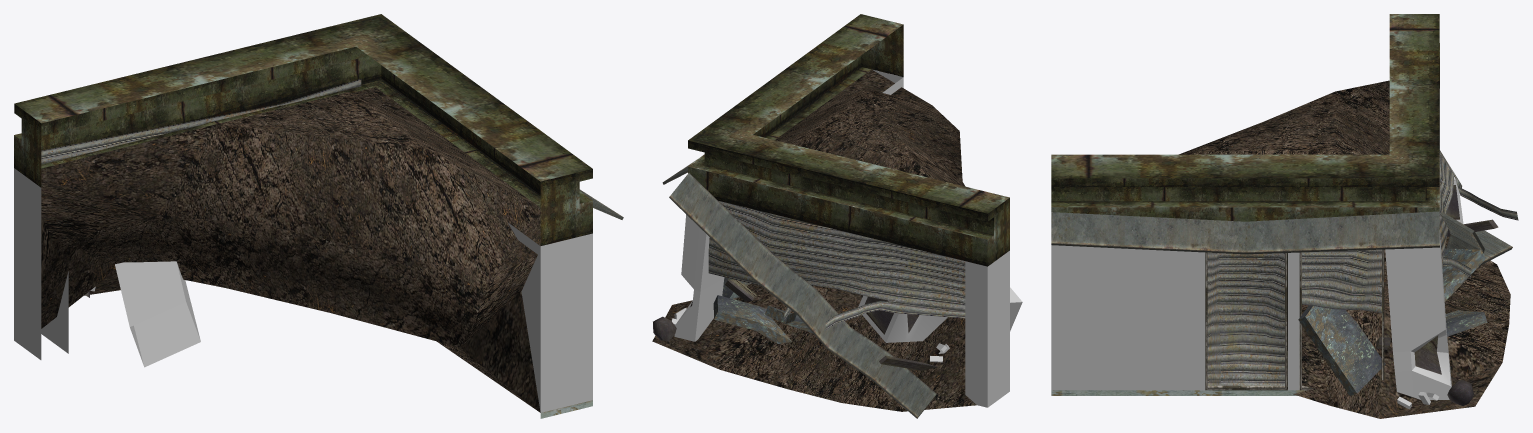
File: Store_front_7_A.fbx
3 renders of one model, left to right at view 1: azimuth 30°, elevation 25°; view 2: azimuth 150°, elevation 25°; view 3: azimuth 270°, elevation 25°, orthographic. The views are drawn at different scales.
Visible parts, largest first — view 1: Store_front_7_A; view 2: Store_front_7_A; view 3: Store_front_7_A.
Part boxes in pixels (box(x1,y1,x2,y2)): Store_front_7_A: box(14, 14, 623, 418); Store_front_7_A: box(652, 14, 1022, 418); Store_front_7_A: box(1051, 14, 1518, 418).
Bounding box in the file's own units: 799 × 435 × 842.
